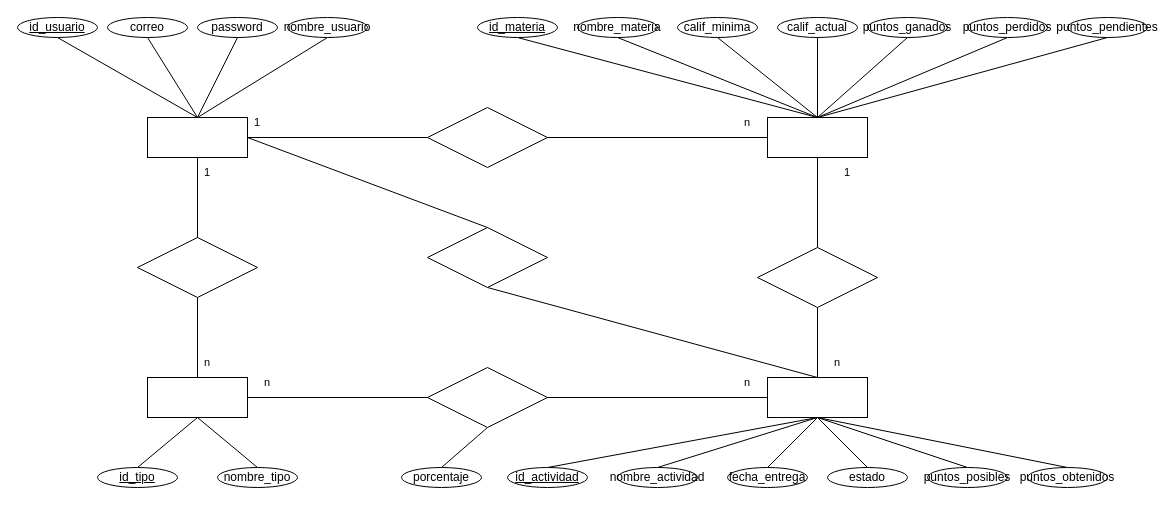
Image size: 1175x505. Some labels were removed from this diagram. Here are the shapes that lost their labels. From the top down, the centre of each, then its label:
point 197,137: USUARIO
point 817,137: MATERIA
point 197,397: TIPO
point 487,397: PONDERACION
point 817,397: ACTIVIDAD
